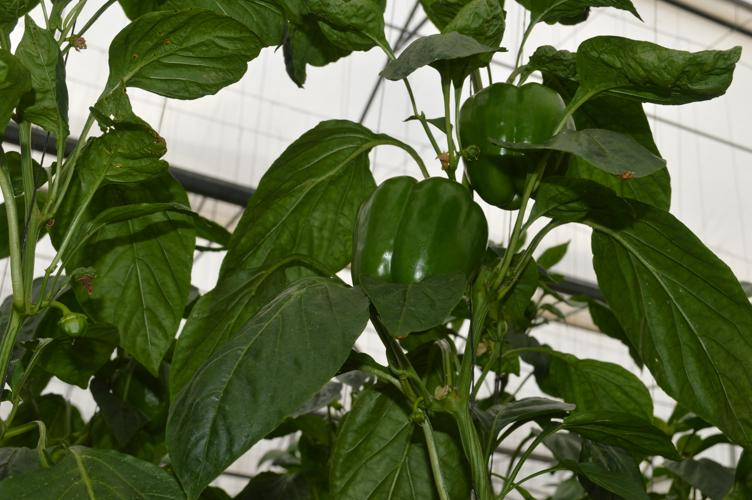BellPepper: (338, 168, 493, 335), (459, 75, 573, 209)
